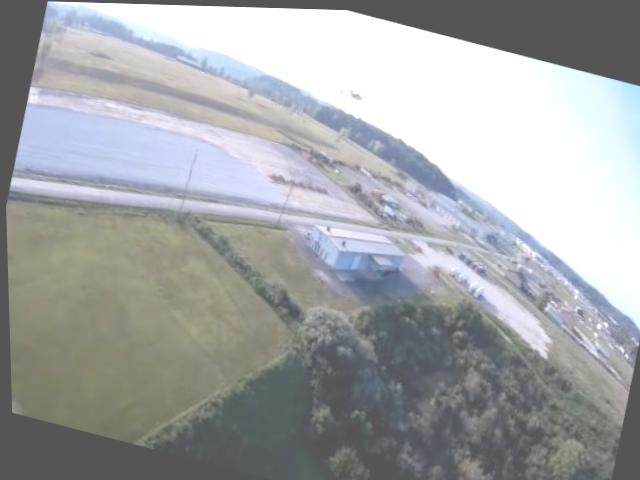uav: (333, 75, 375, 109)
